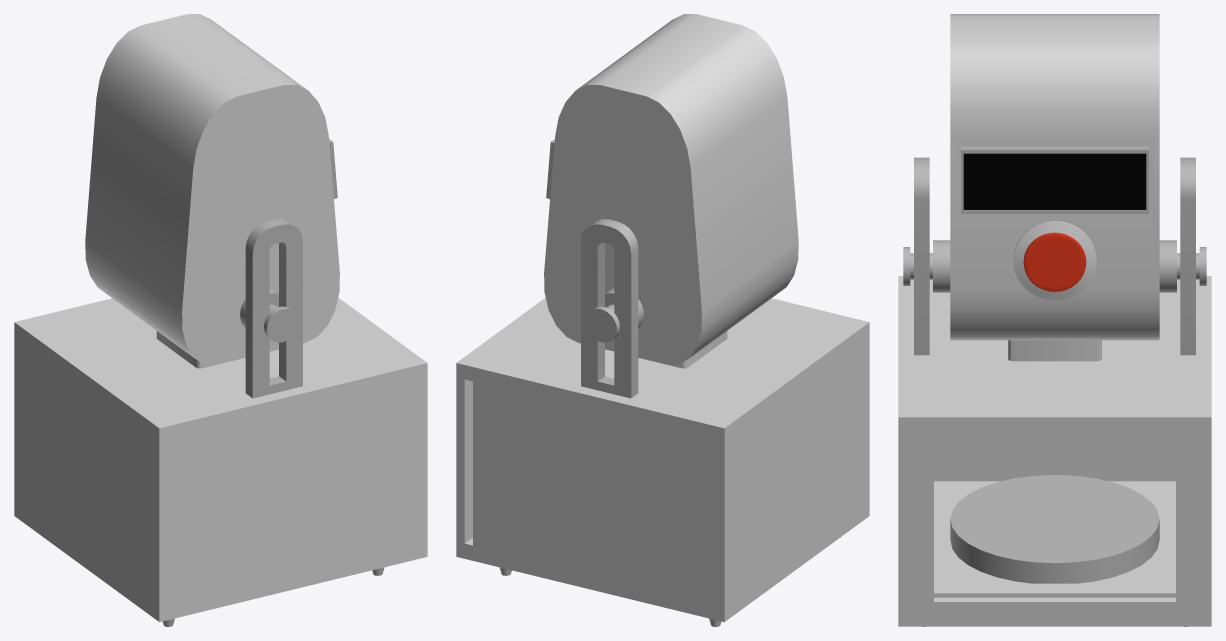
Rendered from X-ray_machine.gltf.
3 views of the same model, side by side, from view 1: azimuth 30°, elevation 25°; view 2: azimuth 150°, elevation 25°; view 3: azimuth 270°, elevation 25° (orthographic). The views are drawn at different scales.
Parts seen in each view (by area): view 1: Cube.002; view 2: Cube.002; view 3: Cube.002.
Part boxes in pixels (<box>): Cube.002: <box>14,14,427,626</box>; Cube.002: <box>456,14,869,626</box>; Cube.002: <box>898,14,1211,626</box>.
Bounding box in the file's own units: 0.32 × 0.57 × 0.3.
